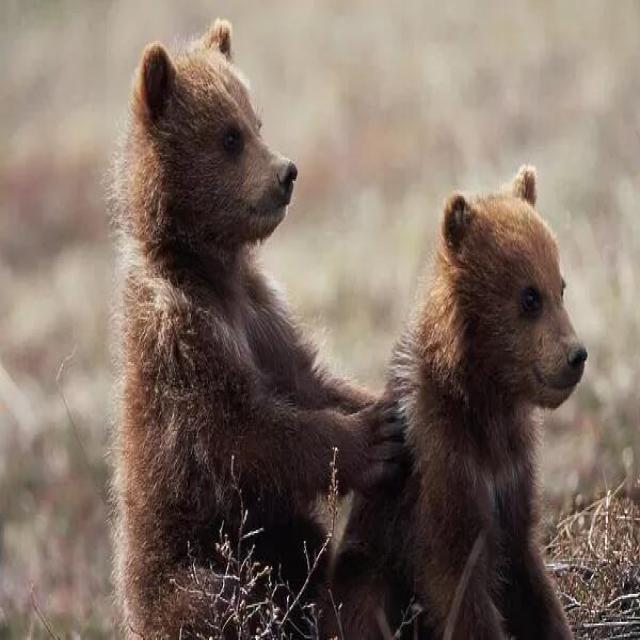Bear: (110, 20, 404, 640), (380, 168, 589, 640)
